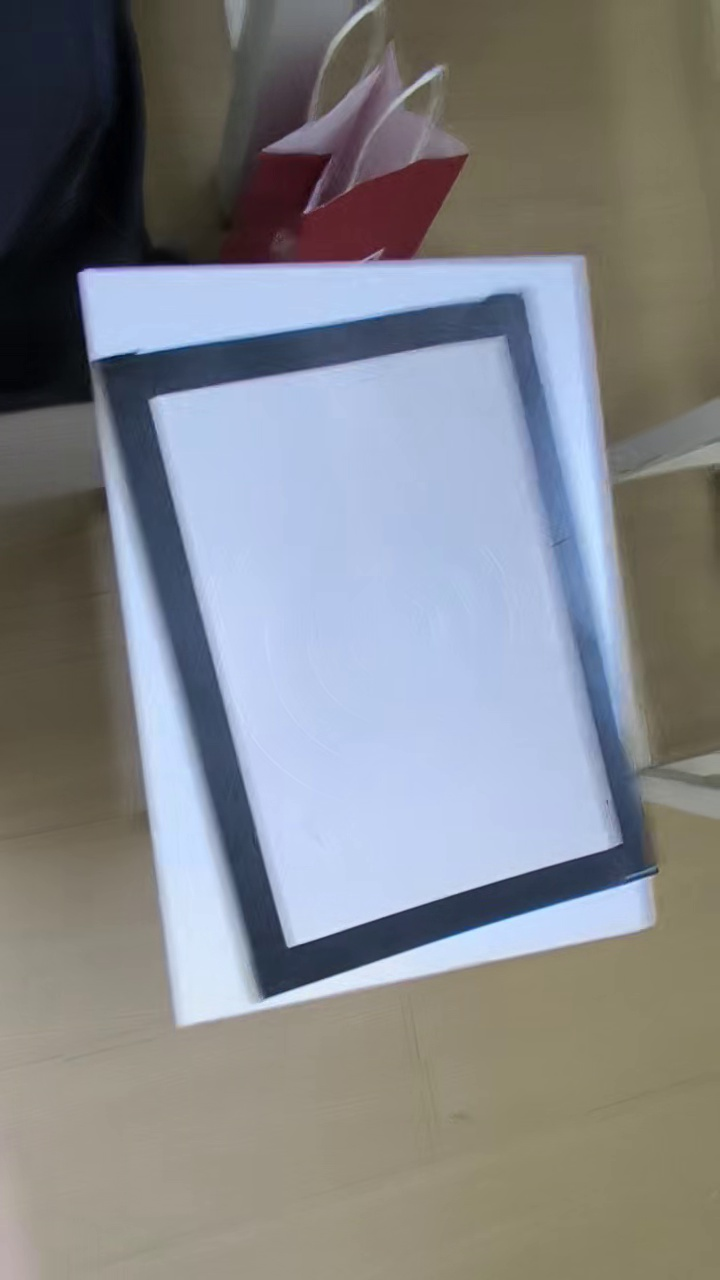board: (97, 295, 658, 995)
